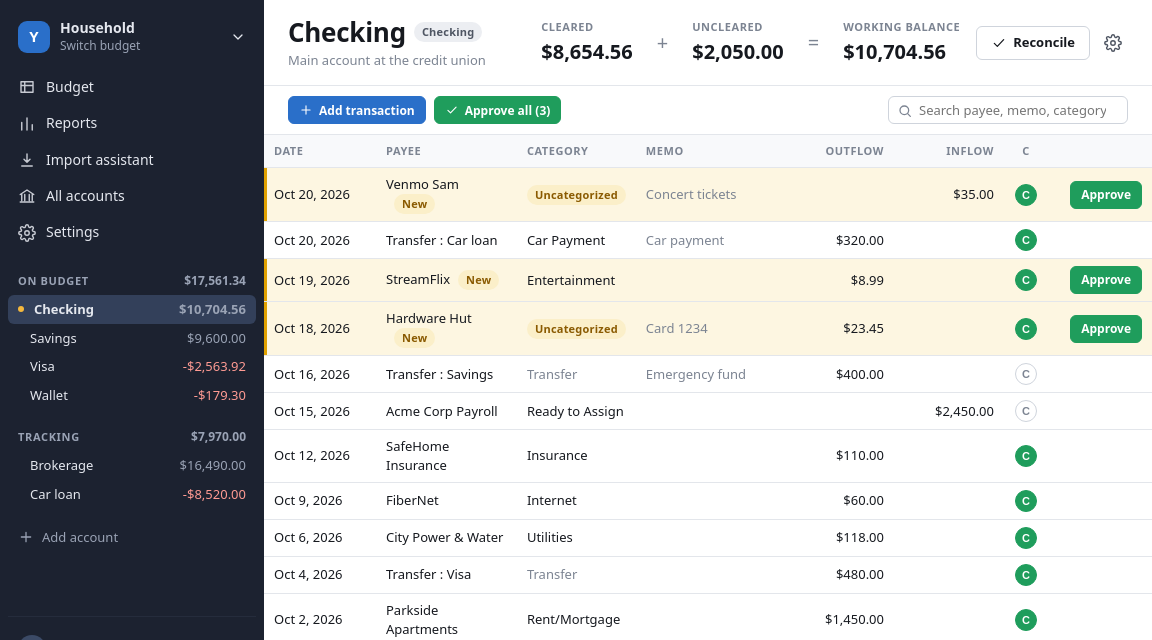
Test: App › shows the register with unapproved imports and approves them
Expected: the text "Hardware Hut" is shown, top-left (386, 309), bottom-right (472, 327)
Click the button "Approve all (3)" at (498, 110), box top-left (434, 96), bottom-right (561, 124)
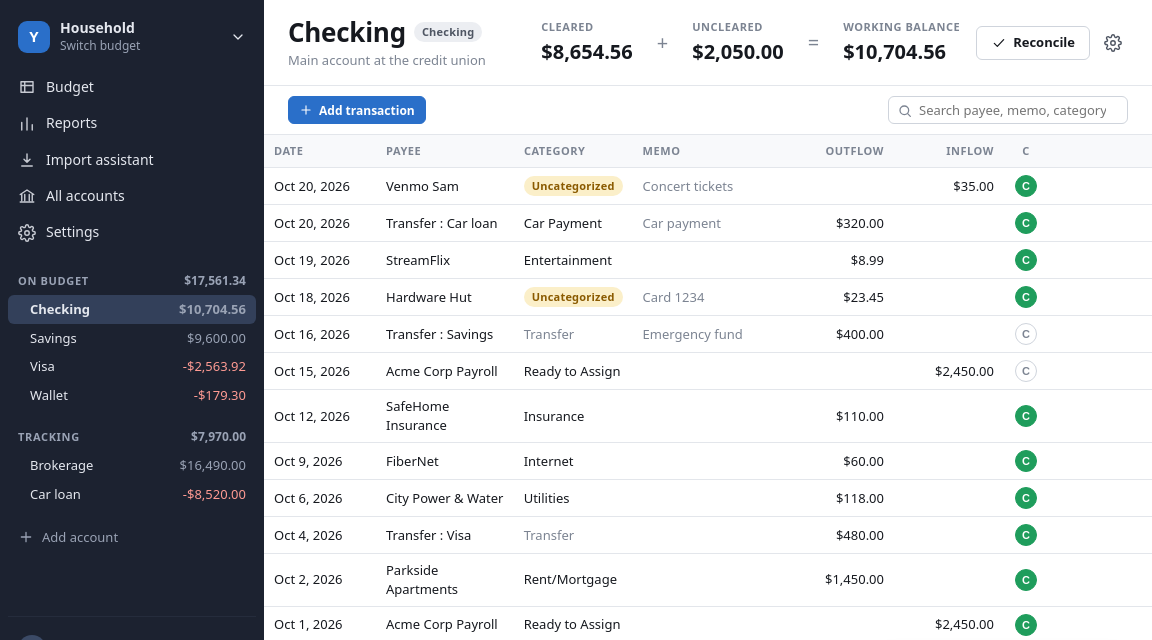
Now the button "Approve all" is gone
Now the text "New" is not shown
